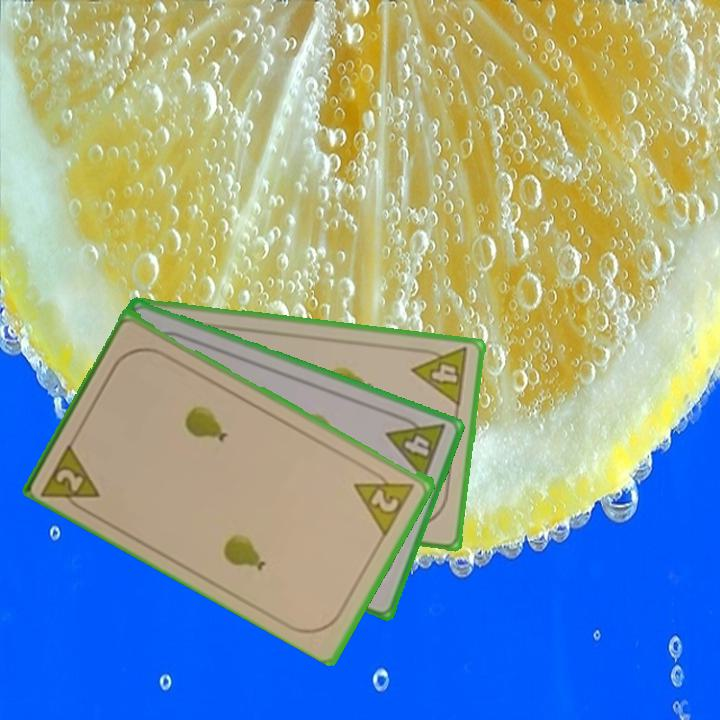2p: (39, 437, 104, 517), (350, 464, 418, 537)
4p: (383, 409, 449, 484), (409, 343, 472, 409)
